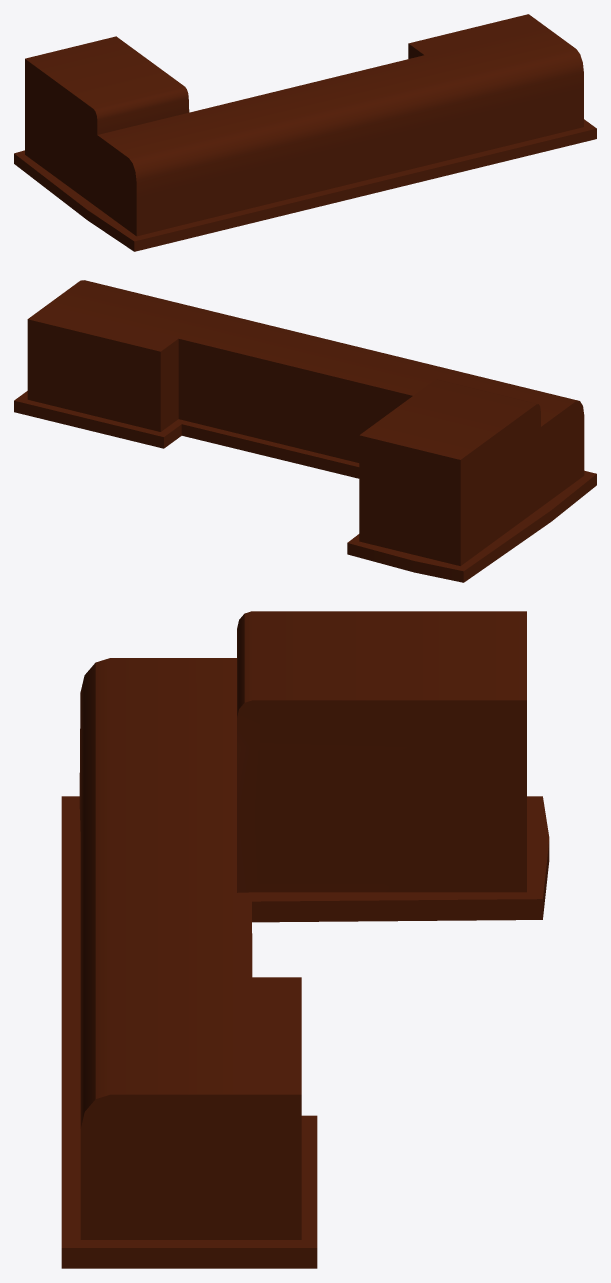
The model's file is Front Desk.glb.
The picture shows the model from 3 angles, top to bottom: view 1: azimuth 30°, elevation 25°; view 2: azimuth 150°, elevation 25°; view 3: azimuth 270°, elevation 25°; orthographic projection. The views are drawn at different scales.
Parts seen in each view (by area): view 1: Desk.001; view 2: Desk.001; view 3: Desk.001.
Boxes of the visible parts, x1,y1,x2,y2 form: Desk.001: [14, 14, 596, 251]; Desk.001: [14, 280, 596, 582]; Desk.001: [61, 611, 549, 1268].
Bounding box in the file's own units: 11.92 × 2.6 × 5.41.
